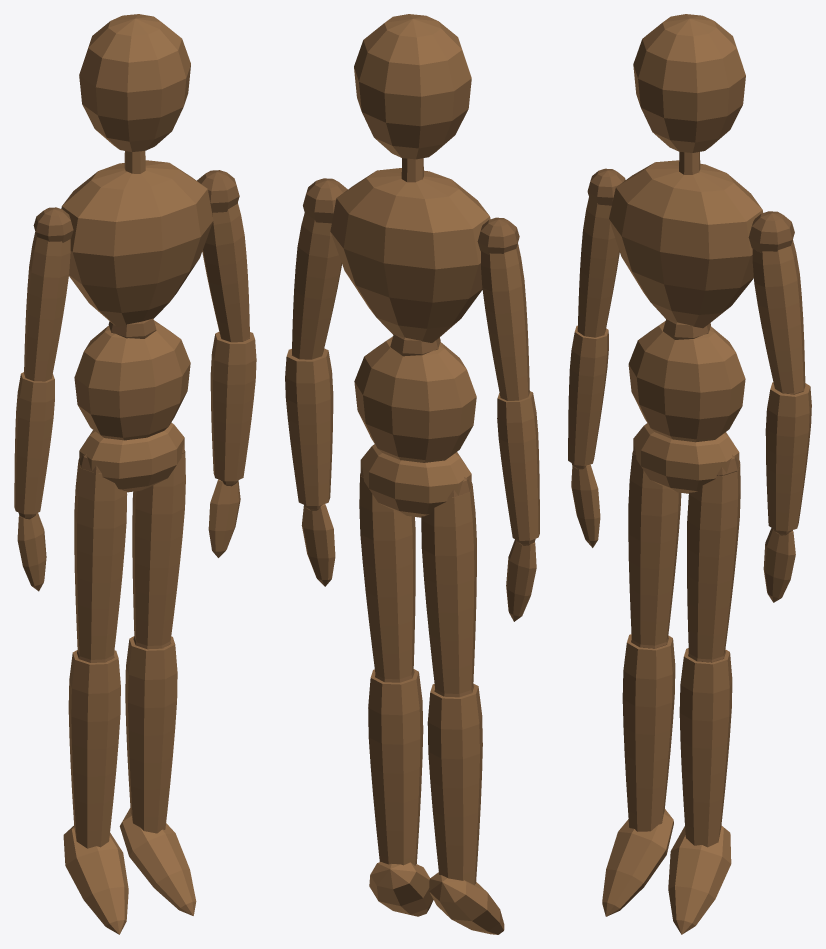
File: mannequin-pose2.glb
3 renders of one model, left to right at view 1: azimuth 30°, elevation 25°; view 2: azimuth 150°, elevation 25°; view 3: azimuth 330°, elevation 25°, orthographic. The views are drawn at different scales.
Parts seen in each view (by area): view 1: chest, head, abdomen, shin_R, thigh_R, shin_L, thigh_L, forearm_L, upper_arm_R, upper_arm_L, forearm_R, pelvis (+7 smaller); view 2: chest, head, abdomen, thigh_R, shin_R, shin_L, thigh_L, forearm_L, upper_arm_R, upper_arm_L, forearm_R, pelvis (+7 smaller); view 3: chest, head, abdomen, shin_L, shin_R, thigh_L, thigh_R, upper_arm_L, forearm_L, pelvis, foot_L, forearm_R (+7 smaller).
Boxes of the visible parts, bbox=[...] form: chest: bbox=[61, 160, 213, 326]; head: bbox=[79, 14, 190, 151]; abdomen: bbox=[74, 320, 190, 440]; shin_R: bbox=[68, 650, 120, 848]; thigh_R: bbox=[74, 460, 127, 659]; shin_L: bbox=[125, 636, 177, 833]; thigh_L: bbox=[132, 453, 185, 645]; forearm_L: bbox=[210, 332, 256, 481]; upper_arm_R: bbox=[24, 232, 70, 381]; upper_arm_L: bbox=[202, 203, 249, 342]; forearm_R: bbox=[14, 372, 54, 514]; pelvis: bbox=[79, 422, 184, 492]; chest: bbox=[330, 168, 490, 342]; head: bbox=[354, 14, 471, 159]; abdomen: bbox=[354, 336, 476, 462]; thigh_R: bbox=[421, 484, 476, 693]; shin_R: bbox=[427, 683, 482, 884]; shin_L: bbox=[368, 669, 423, 865]; thigh_L: bbox=[359, 476, 415, 679]; forearm_L: bbox=[285, 348, 333, 505]; upper_arm_R: bbox=[481, 243, 529, 400]; upper_arm_L: bbox=[292, 213, 341, 359]; forearm_R: bbox=[497, 391, 539, 540]; pelvis: bbox=[360, 444, 471, 517]; chest: bbox=[609, 160, 763, 328]; head: bbox=[633, 14, 745, 152]; abdomen: bbox=[628, 321, 745, 442]; shin_L: bbox=[679, 648, 732, 847]; shin_R: bbox=[622, 634, 675, 831]; thigh_L: bbox=[687, 463, 740, 659]; thigh_R: bbox=[628, 452, 681, 645]; upper_arm_L: bbox=[752, 240, 805, 393]; forearm_L: bbox=[765, 382, 811, 531]; pelvis: bbox=[633, 423, 739, 493]; foot_L: bbox=[668, 825, 731, 934]; forearm_R: bbox=[568, 325, 608, 466].
Bounding box in the file's own units: 2.67 × 9.39 × 1.21.
